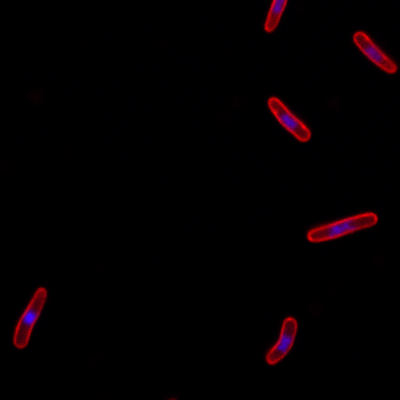Nalidixate: (305, 211, 378, 245), (11, 285, 48, 350), (351, 30, 398, 75), (266, 95, 311, 142), (264, 315, 297, 366)
